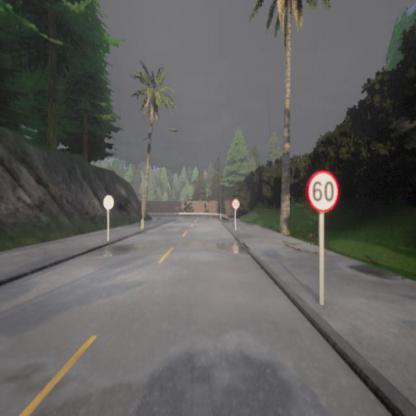traffic_sign_60: (307, 170, 339, 212)
